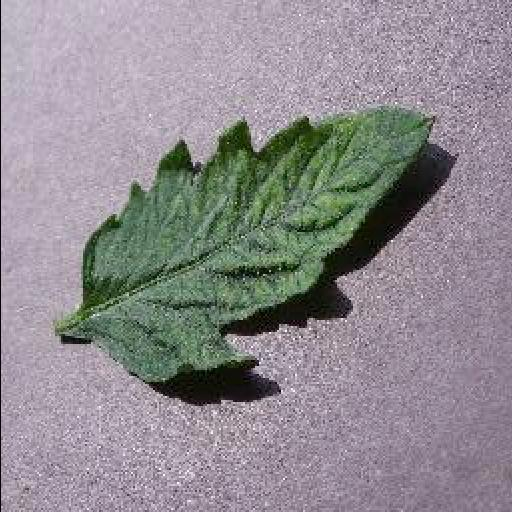disease_tomato: (75, 104, 439, 388)
